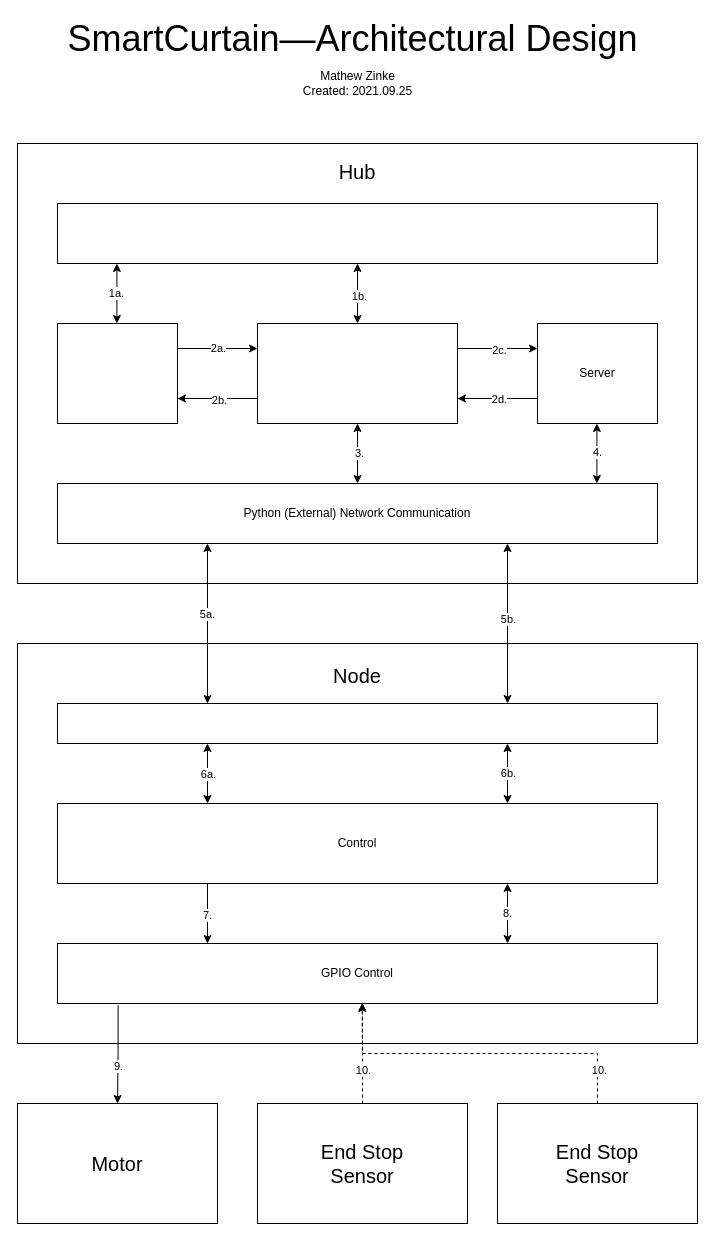
This 715x1241 diagram has some shape labels left out. Here are the shapes that lost their labels. From the top down, the centre of each, then its label:
At point 357,233: "DB".
At point 117,373: "Manager".
At point 357,373: "System".
At point 357,723: "Wifi/Ethernet Communication".
